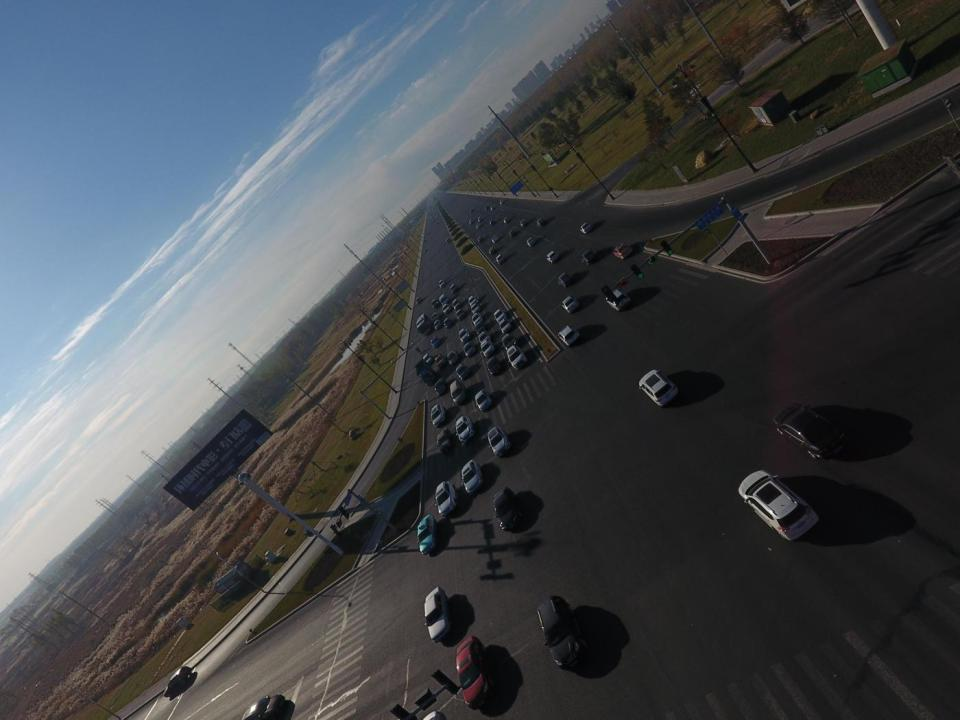bus: (416, 313, 433, 336)
car: (737, 469, 819, 542), (773, 401, 848, 460), (537, 596, 586, 669), (455, 635, 497, 710), (424, 586, 452, 642), (639, 369, 679, 408), (492, 485, 523, 531), (239, 693, 287, 720), (435, 481, 459, 518), (164, 666, 191, 698), (417, 514, 438, 554), (461, 459, 484, 494), (488, 426, 512, 457), (505, 344, 528, 371), (605, 289, 631, 311), (457, 415, 476, 444), (436, 426, 453, 456), (429, 403, 448, 429), (558, 324, 580, 346), (474, 389, 494, 412), (612, 242, 633, 260), (485, 355, 502, 377), (562, 295, 580, 313), (580, 248, 599, 265), (434, 378, 449, 397), (558, 272, 575, 288), (501, 334, 517, 350), (480, 340, 495, 357), (463, 341, 476, 358), (456, 364, 470, 379), (499, 318, 512, 334), (459, 328, 472, 343), (447, 350, 459, 366), (478, 331, 492, 344), (494, 308, 506, 323), (474, 321, 487, 334), (546, 251, 560, 263), (435, 354, 446, 369), (472, 312, 483, 325), (580, 222, 592, 233), (423, 353, 433, 366), (495, 255, 506, 266), (431, 336, 441, 348), (536, 217, 547, 227), (471, 303, 481, 314), (468, 295, 478, 306), (456, 309, 466, 320), (441, 304, 452, 314), (444, 317, 453, 329), (452, 298, 461, 310), (527, 237, 536, 248), (434, 319, 442, 331), (432, 298, 440, 310), (450, 283, 458, 294), (519, 219, 528, 228), (438, 279, 446, 289), (508, 229, 516, 237), (489, 246, 496, 254), (503, 217, 510, 224), (492, 236, 498, 243), (499, 199, 505, 205), (490, 220, 496, 226), (478, 236, 484, 242), (416, 297, 421, 304), (477, 218, 483, 222), (469, 208, 473, 213), (476, 224, 481, 228), (422, 248, 426, 252), (491, 205, 494, 210), (469, 220, 472, 224), (486, 207, 490, 209), (436, 222, 439, 224), (428, 224, 429, 227), (430, 221, 431, 223), (433, 221, 435, 222), (428, 233, 429, 235)
truck: (416, 360, 438, 385), (446, 238, 450, 242), (424, 239, 426, 243)
van: (449, 379, 469, 405), (439, 294, 450, 305)
